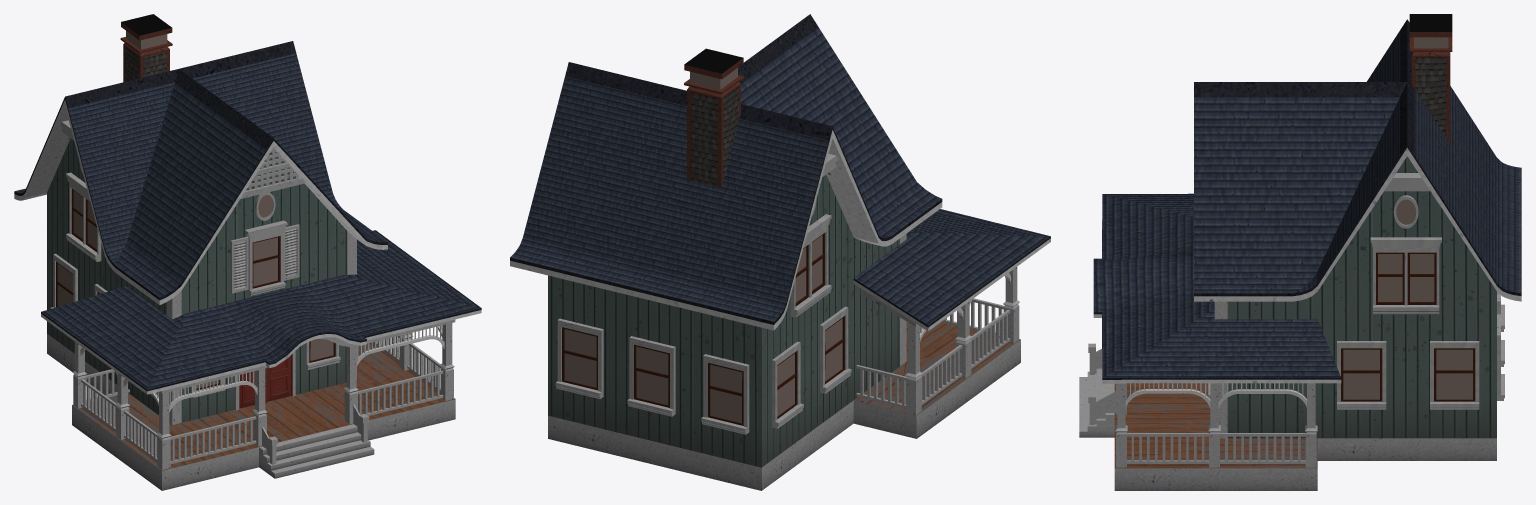
File: uploads_files_4410157_cottage_3.fbx
3 views of the same model, side by side, from view 1: azimuth 30°, elevation 25°; view 2: azimuth 150°, elevation 25°; view 3: azimuth 270°, elevation 25° (orthographic). The views are drawn at different scales.
Parts seen in each view (by area): view 1: Cube; view 2: Cube; view 3: Cube.
Part boxes in pixels (x1=…): Cube: x1=14, y1=14, x2=481, y2=490; Cube: x1=510, y1=14, x2=1050, y2=490; Cube: x1=1079, y1=14, x2=1521, y2=490.
Bounding box in the file's own units: 1056 × 1004 × 1073.
1 material, 1 textured.
